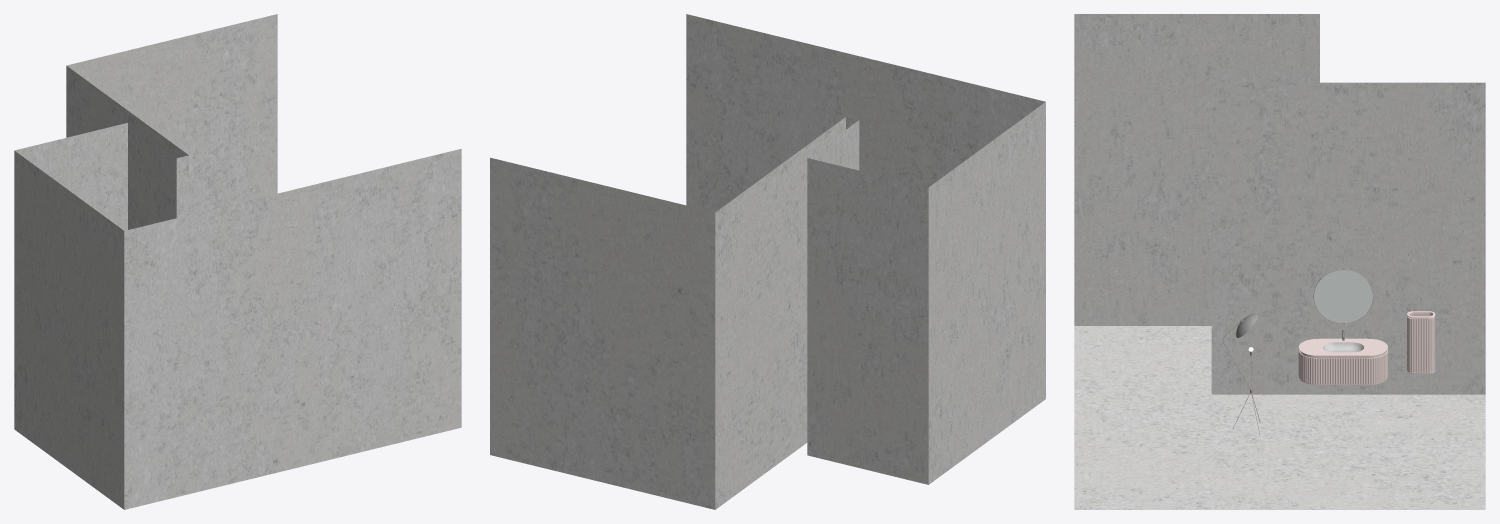
File: mira-2.glb
The picture shows the model from 3 angles, left to right: view 1: azimuth 30°, elevation 25°; view 2: azimuth 150°, elevation 25°; view 3: azimuth 270°, elevation 25°; orthographic projection. The views are drawn at different scales.
Parts seen in each view (by area): view 1: Plane.001; view 2: Plane.001; view 3: Plane.001, Cube.011, Circle.001.
Boxes of the visible parts, box(x1,y1,x2,y2) form: Plane.001: box(14, 14, 461, 509); Plane.001: box(490, 14, 1045, 509); Plane.001: box(1074, 14, 1485, 509); Cube.011: box(1298, 311, 1435, 384); Circle.001: box(1223, 269, 1373, 435).
Size of the model in its own units: 33.6 by 26.56 by 31.75.
8 materials, 4 textured.
